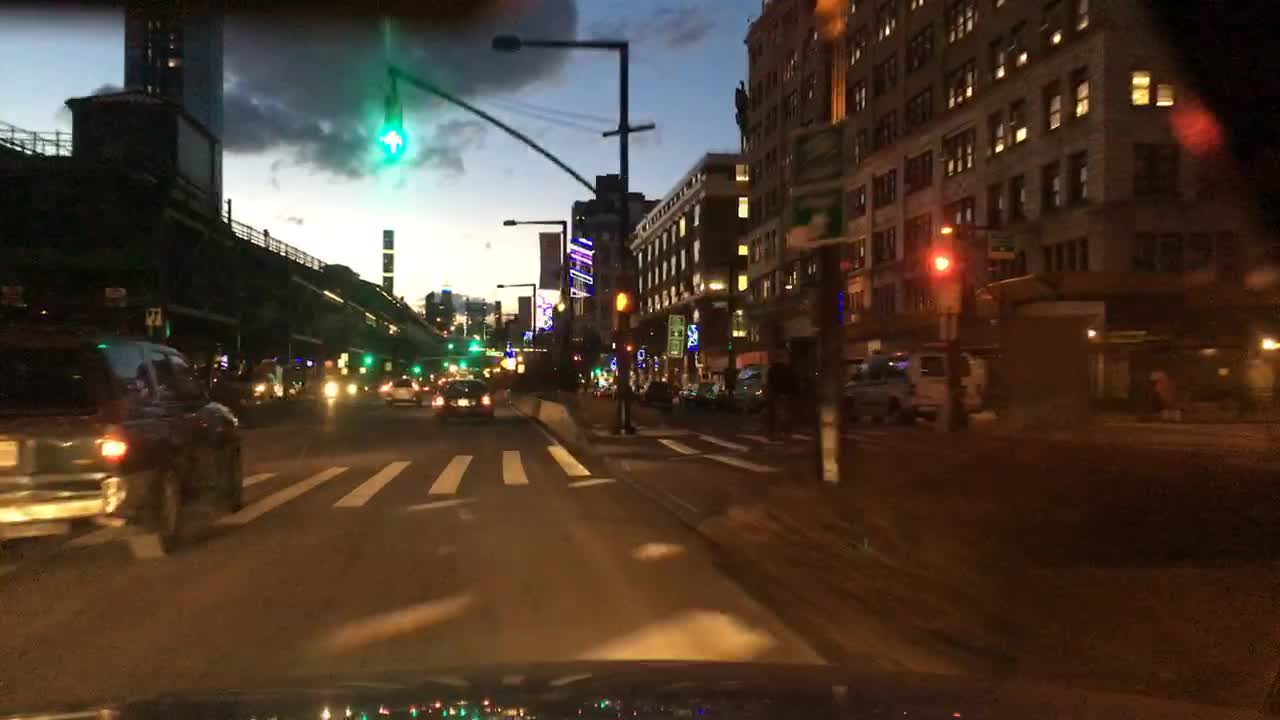car: (0, 336, 244, 560), (841, 350, 990, 433), (212, 357, 287, 411), (437, 377, 494, 419), (734, 365, 767, 404), (382, 375, 421, 407), (320, 372, 359, 398), (677, 382, 723, 404), (283, 360, 307, 401), (637, 377, 671, 401), (591, 373, 617, 398), (436, 376, 454, 392), (418, 384, 432, 394)
traffic light: (384, 89, 402, 153), (364, 353, 372, 365), (471, 343, 477, 354), (414, 364, 420, 373), (459, 360, 465, 368), (448, 342, 453, 350)
traffic sign: (538, 232, 561, 291), (987, 230, 1014, 258), (144, 305, 162, 326), (669, 314, 684, 338), (666, 337, 682, 358), (104, 287, 126, 298)
